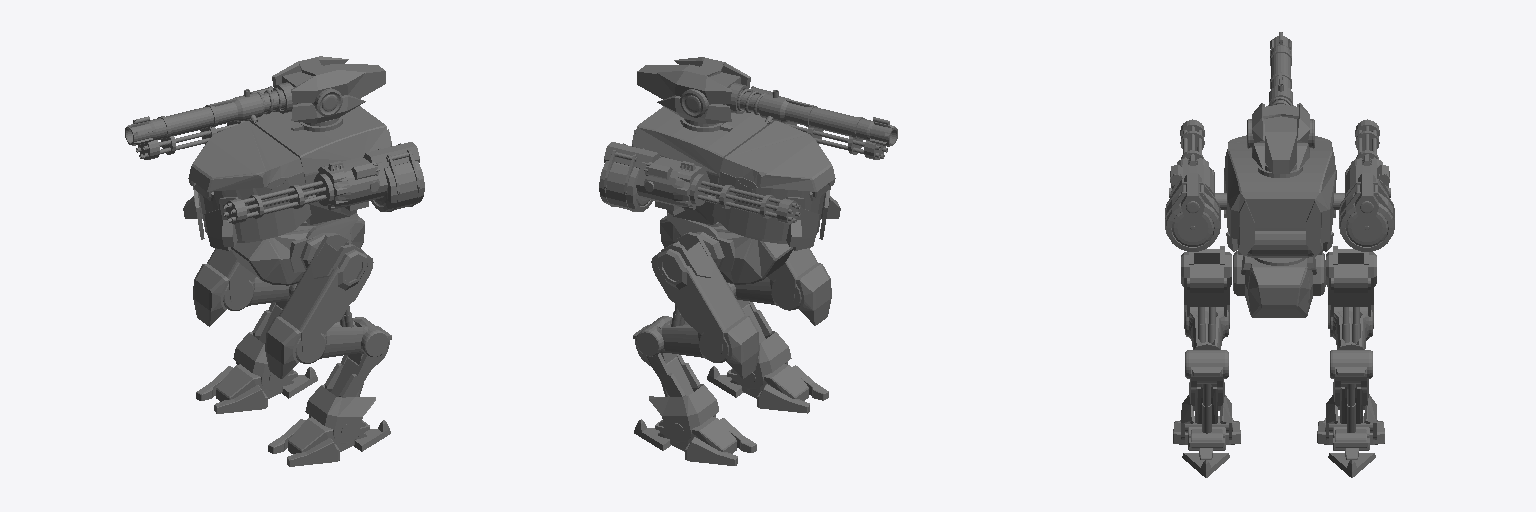
Rendered from gepard.obj.
The picture shows the model from 3 angles: view 1: azimuth 30°, elevation 25°; view 2: azimuth 150°, elevation 25°; view 3: azimuth 270°, elevation 25°; orthographic projection.
Visible parts, largest first — view 1: cylinder81, cylinder62, prism21, cylinder1, cylinder2, box1121, cylinder3112, cylinder31121, box911, cylinder7, cylinder22, cylinder21 (+2 smaller); view 2: cylinder81, cylinder62, box911, cylinder11, cylinder22, box1121, cylinder31121, cylinder3112, prism21, cylinder71, cylinder2, cylinder211 (+2 smaller); view 3: cylinder81, cylinder62, box1121, cylinder1, cylinder11, cylinder22, cylinder2, box911, prism21, cylinder31121, cylinder3112, cylinder21 (+3 smaller).
Part boxes in pixels (x1,y1,x2,y2): cylinder81: (183,106,391,250); cylinder62: (125,56,385,145); prism21: (265,233,373,378); cylinder1: (316,142,424,211); cylinder2: (305,317,391,443); box1121: (231,213,364,285); cylinder3112: (268,417,390,466); cylinder31121: (196,364,317,413); box911: (193,248,255,326); cylinder7: (223,174,334,223); cylinder22: (233,284,296,390); cylinder21: (295,319,367,363); cylinder81: (632,106,840,250); cylinder62: (637,57,897,146); box911: (651,232,759,378); cylinder11: (599,142,707,211); cylinder22: (633,316,718,442); box1121: (660,213,792,284); cylinder31121: (634,416,756,465); cylinder3112: (707,364,828,413); prism21: (768,248,831,325); cylinder71: (689,174,800,223); cylinder2: (727,283,791,389); cylinder211: (657,318,728,362); cylinder81: (1224,135,1336,257); cylinder62: (1247,32,1314,173); box1121: (1233,251,1325,317); cylinder1: (1165,155,1226,251); cylinder11: (1333,155,1394,251); cylinder22: (1326,350,1376,439); cylinder2: (1181,350,1231,439); box911: (1326,246,1376,328); prism21: (1181,246,1231,328); cylinder31121: (1317,416,1384,477); cylinder3112: (1173,416,1240,477); cylinder21: (1185,307,1228,349).
Size of the model in its own units: 15.48 by 20.48 by 12.27.